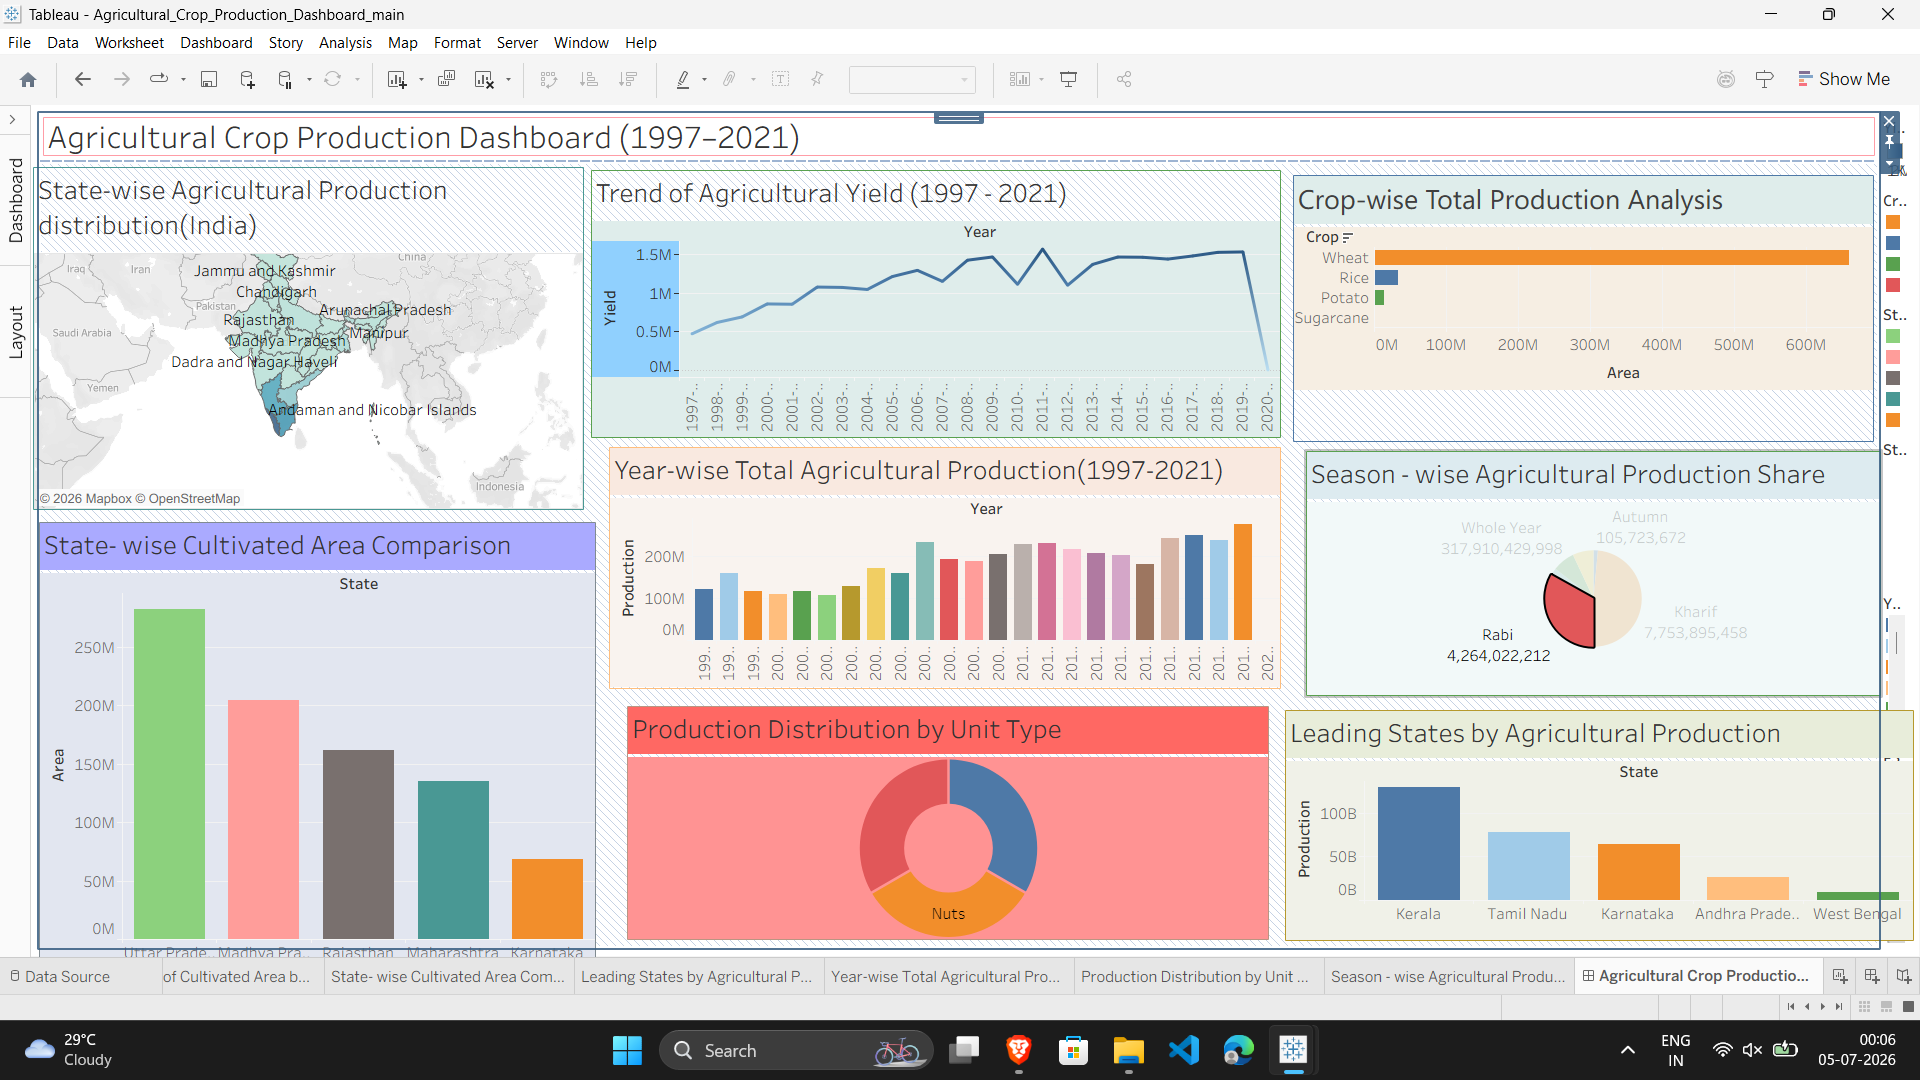

Layout of this report page (visuals, bound fields, positions):
{"tool":"tableau","page":{"name":"Agricultural Crop Production Dashboard (1997–2021)","canvas":[1000,1000],"units":"permille","ordinal":0},"visuals":[{"type":"title","box":[4.2,9.4,974.6,55.2]},{"type":"legend","title":"Trend of Agricultural Yield (1997 - 2021)","param":"[federated.126gev81fgg6xx1gshl9q0gtfvu8].[sum:Yield:qk]","box":[978.8,9.4,16.9,85.8]},{"type":"worksheet","title":"State-wise Agricultural Production distribution(India)","mark":"Automatic","box":[1.1,72.9,291.8,403.1]},{"type":"worksheet","title":"Trend of Agricultural Yield (1997 - 2021)","mark":"Line","rows":["Yield"],"cols":["Year"],"box":[296.4,76.4,365.6,314.9]},{"type":"worksheet","title":"Compaison of Cultivated Area by Crop","mark":"Automatic","rows":["Crop"],"cols":["Area"],"box":[668.4,82.3,307.7,313.8]},{"type":"legend","title":"Compaison of Cultivated Area by Crop","param":"[federated.126gev81fgg6xx1gshl9q0gtfvu8].[none:Crop:nk]","box":[978.8,95.2,16.9,134]},{"type":"legend","title":"State- wise Cultivated Area Comparison","param":"[federated.126gev81fgg6xx1gshl9q0gtfvu8].[none:State:nk]","box":[978.8,229.1,16.9,158.6]},{"type":"filter","title":"Leading States by Agricultural Production","param":"[federated.126gev81fgg6xx1gshl9q0gtfvu8].[none:State:nk]","box":[978.8,387.8,16.9,181]},{"type":"worksheet","title":"Year-wise Total Agricultural Production(1997-2021)","mark":"Automatic","rows":["Production"],"cols":["Year"],"box":[306.4,401.9,356.2,284.4]},{"type":"worksheet","title":"Season - wise Agricultural Production Share ","mark":"Pie","box":[675.3,406.6,304.6,287.9]},{"type":"legend","title":"Year-wise Total Agricultural Production(1997-2021)","param":"[federated.126gev81fgg6xx1gshl9q0gtfvu8].[none:Year:nk]","box":[978.8,568.7,16.9,181]},{"type":"worksheet","title":"Production Distribution by Unit Type ","mark":"VizExtension","box":[315.7,706.2,340,275]},{"type":"worksheet","title":"Leading States by Agricultural Production","mark":"Automatic","rows":["Production"],"cols":["State"],"box":[664.2,710.9,333.2,271.4]},{"type":"legend","title":"Season - wise Agricultural Production Share ","param":"[federated.126gev81fgg6xx1gshl9q0gtfvu8].[none:F5:nk]","box":[978.8,749.7,16.9,181]},{"type":"legend","title":"Season - wise Agricultural Production Share ","param":"[federated.126gev81fgg6xx1gshl9q0gtfvu8].[sum:Production:qk]","box":[978.8,930.7,16.9,59.9]}]}

Visuals, with their boxes on the dashboard's canvas, which has no fixed pixel size, in thousandths of its width and height (x1, y1, x2, y2). These are canvas units, not pixel positions in the 1920x1080 screenshot, which may show the page scaled, cropped or inside an application window:
title: (x1=4, y1=9, x2=979, y2=65)
"Trend of Agricultural Yield (1997 - 2021)" legend: (x1=979, y1=9, x2=996, y2=95)
"State-wise Agricultural Production distribution(India)" worksheet: (x1=1, y1=73, x2=293, y2=476)
"Trend of Agricultural Yield (1997 - 2021)" worksheet (Line marks): (x1=296, y1=76, x2=662, y2=391)
"Compaison of Cultivated Area by Crop" worksheet: (x1=668, y1=82, x2=976, y2=396)
"Compaison of Cultivated Area by Crop" legend: (x1=979, y1=95, x2=996, y2=229)
"State- wise Cultivated Area Comparison" legend: (x1=979, y1=229, x2=996, y2=388)
"Leading States by Agricultural Production" filter: (x1=979, y1=388, x2=996, y2=569)
"Year-wise Total Agricultural Production(1997-2021)" worksheet: (x1=306, y1=402, x2=663, y2=686)
"Season - wise Agricultural Production Share " worksheet (Pie marks): (x1=675, y1=407, x2=980, y2=694)
"Year-wise Total Agricultural Production(1997-2021)" legend: (x1=979, y1=569, x2=996, y2=750)
"Production Distribution by Unit Type " worksheet (VizExtension marks): (x1=316, y1=706, x2=656, y2=981)
"Leading States by Agricultural Production" worksheet: (x1=664, y1=711, x2=997, y2=982)
"Season - wise Agricultural Production Share " legend: (x1=979, y1=750, x2=996, y2=931)
"Season - wise Agricultural Production Share " legend: (x1=979, y1=931, x2=996, y2=991)
